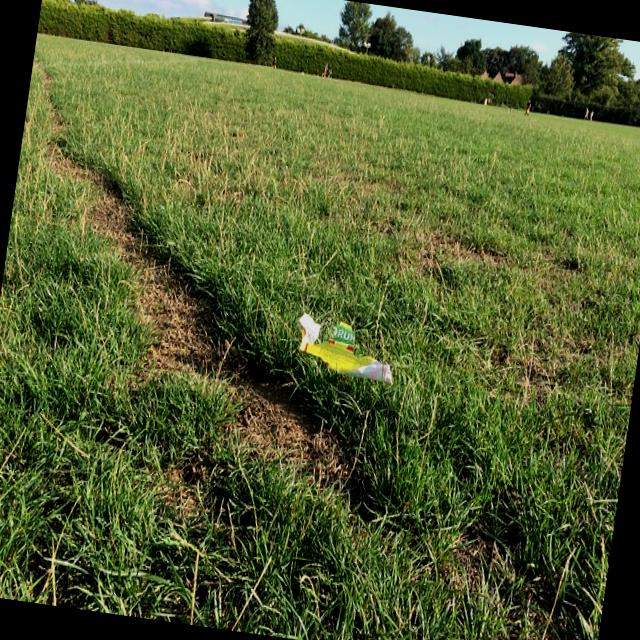Trash: (288, 313, 401, 383)
